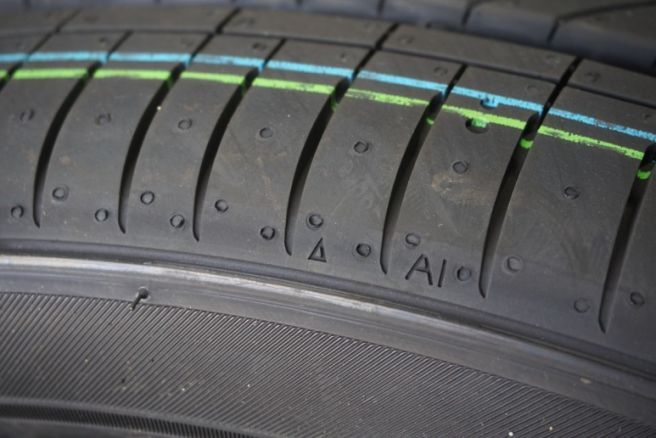new_condition: (5, 1, 656, 382)
